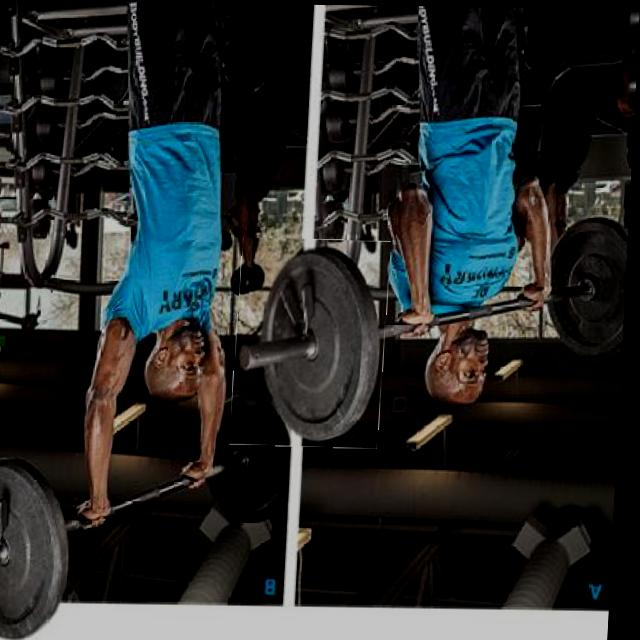barbell: (235, 238, 393, 448)
